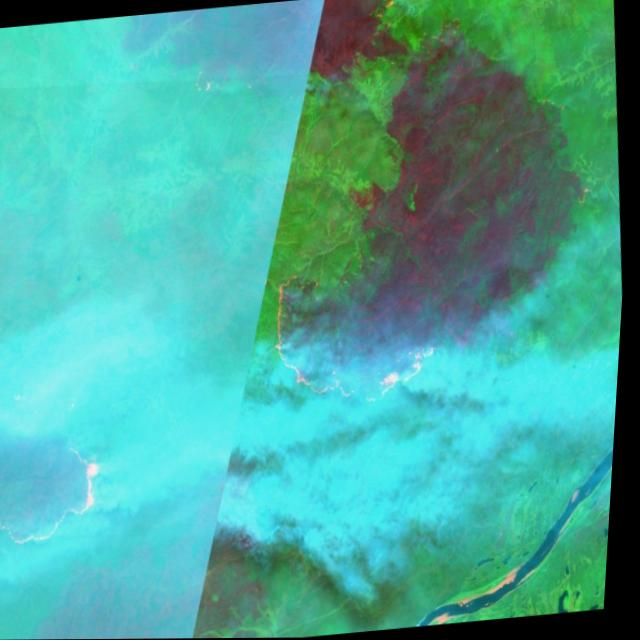fire: (260, 251, 445, 418), (0, 431, 112, 564)
